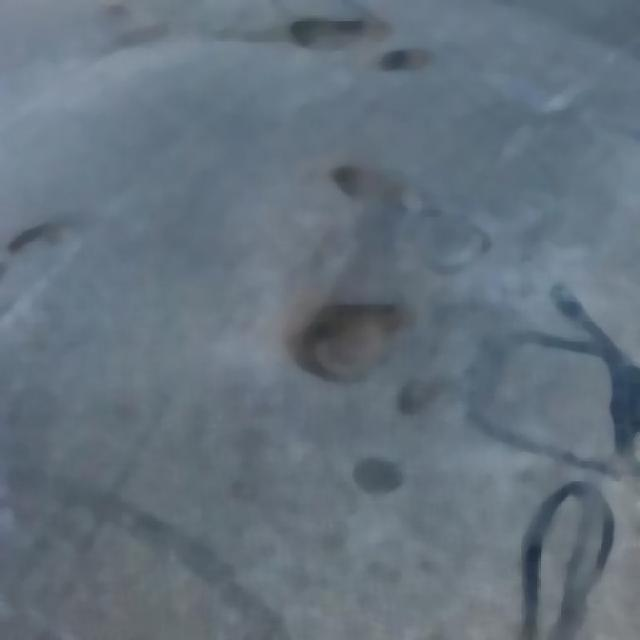Pothole: (523, 464, 614, 638), (298, 265, 398, 384), (286, 0, 385, 60), (21, 201, 82, 270), (344, 432, 394, 492), (386, 30, 432, 84)
